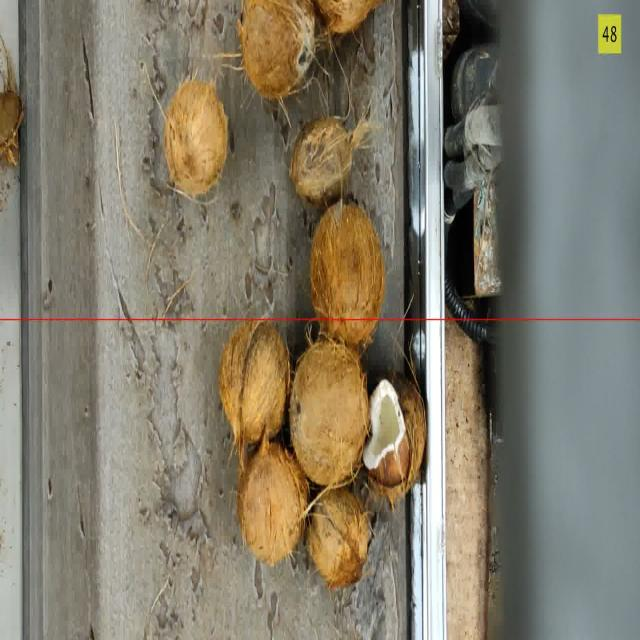Coconut-Conveyor-Belt: (296, 340, 368, 482), (311, 202, 383, 342), (222, 324, 290, 440), (239, 441, 307, 556), (371, 370, 428, 501), (238, 1, 314, 99), (166, 76, 230, 189), (308, 490, 372, 591), (294, 112, 358, 194), (314, 1, 378, 31)
